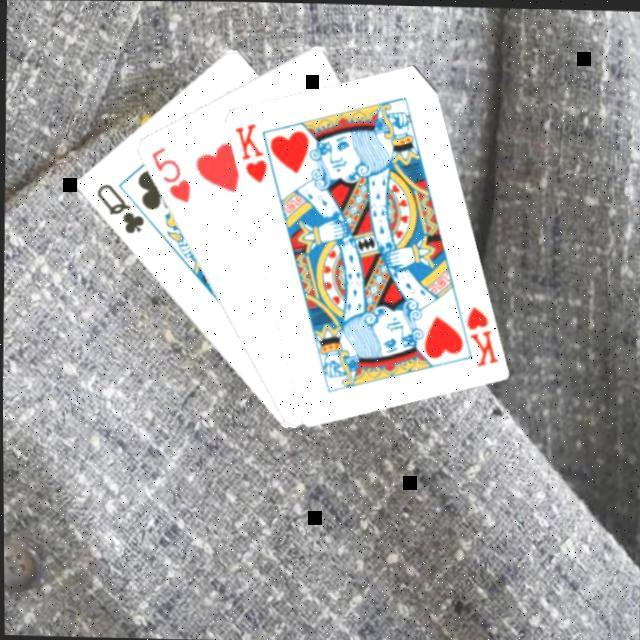5H: (144, 140, 192, 203)
KH: (458, 298, 498, 368), (228, 116, 268, 183)
QC: (88, 177, 146, 235)
